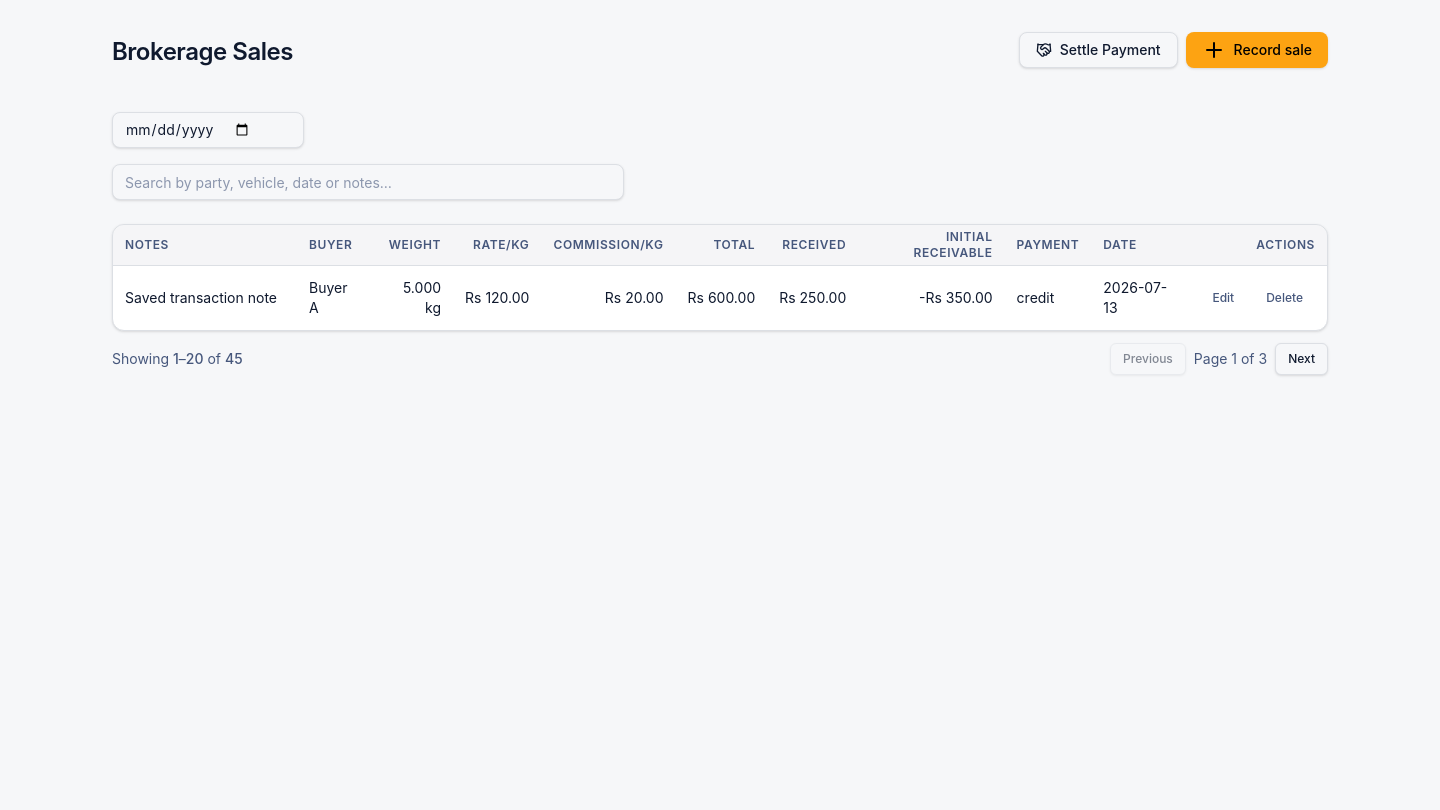
Scenario: Brokerage transaction balances › allows a broker party in a Brokerage sale
Expected: the text "Saved transaction note" is shown, x1=125 y1=288 x2=285 y2=308
Click the button "Record sale" at coordinates (1257, 50), box x1=1186 y1=32 x2=1328 y2=68
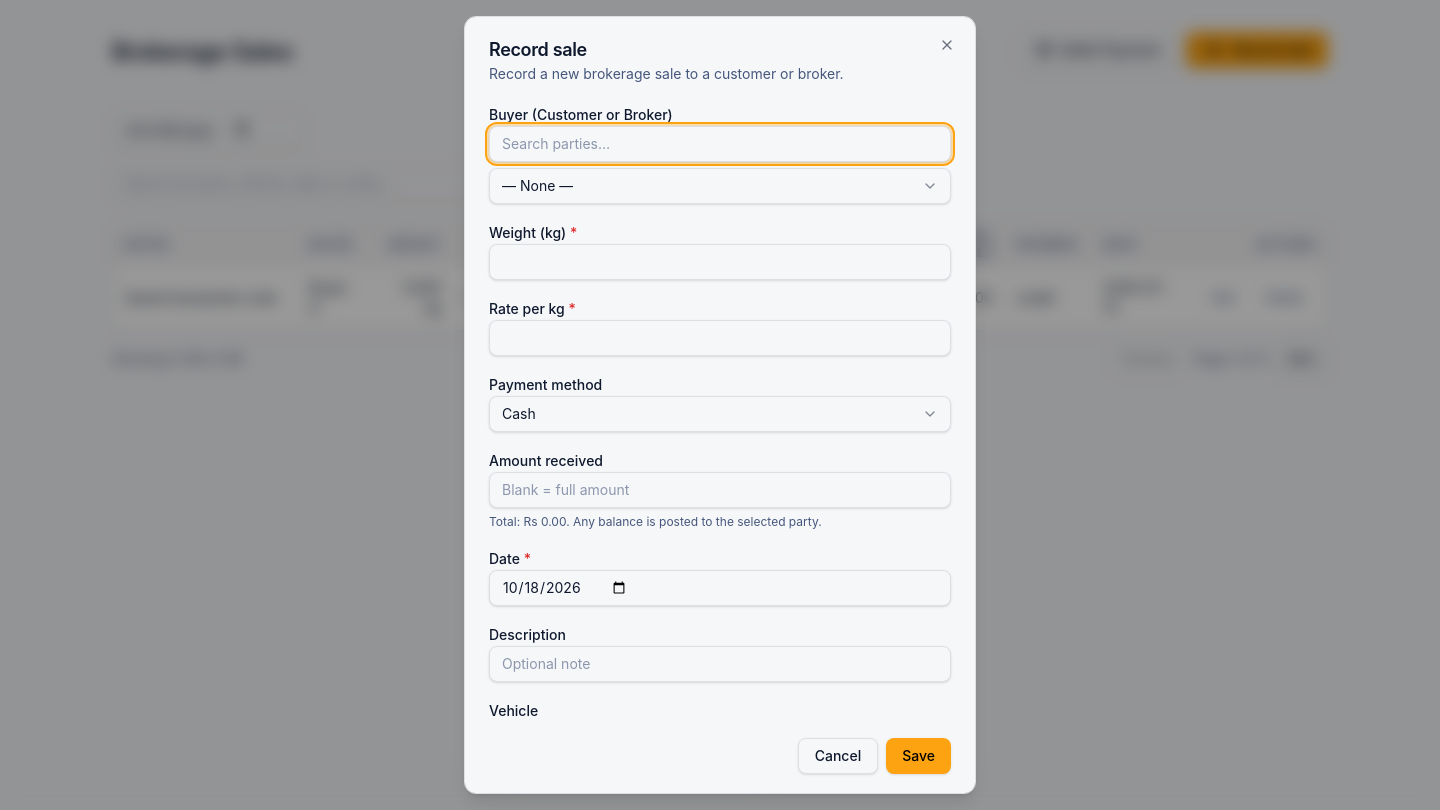
Click the dropdown named "Buyer (Customer or Broker)" at coordinates (538, 185), box x1=489 y1=168 x2=951 y2=204
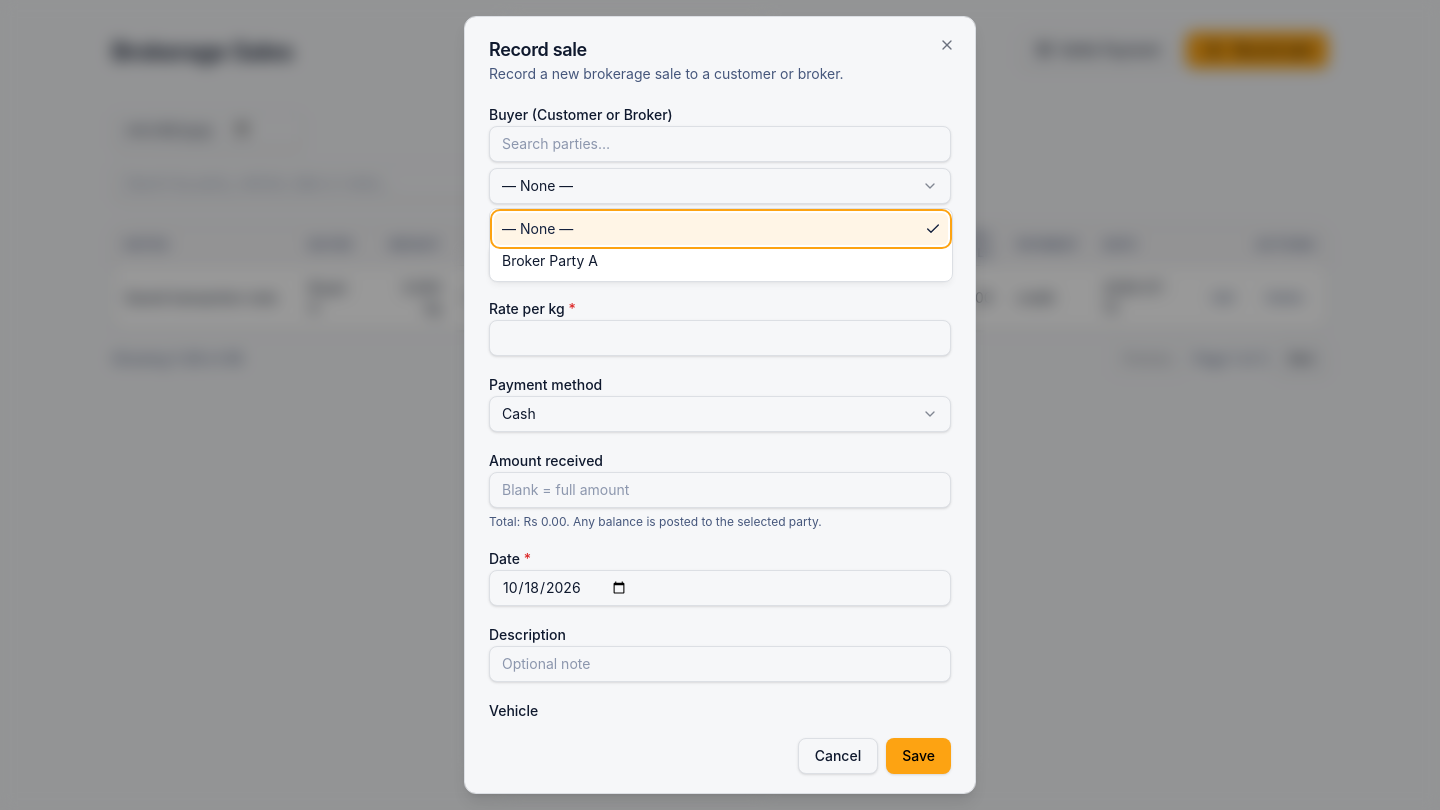
Expected: the option "Broker Party A" is shown, x1=502 y1=252 x2=598 y2=269
